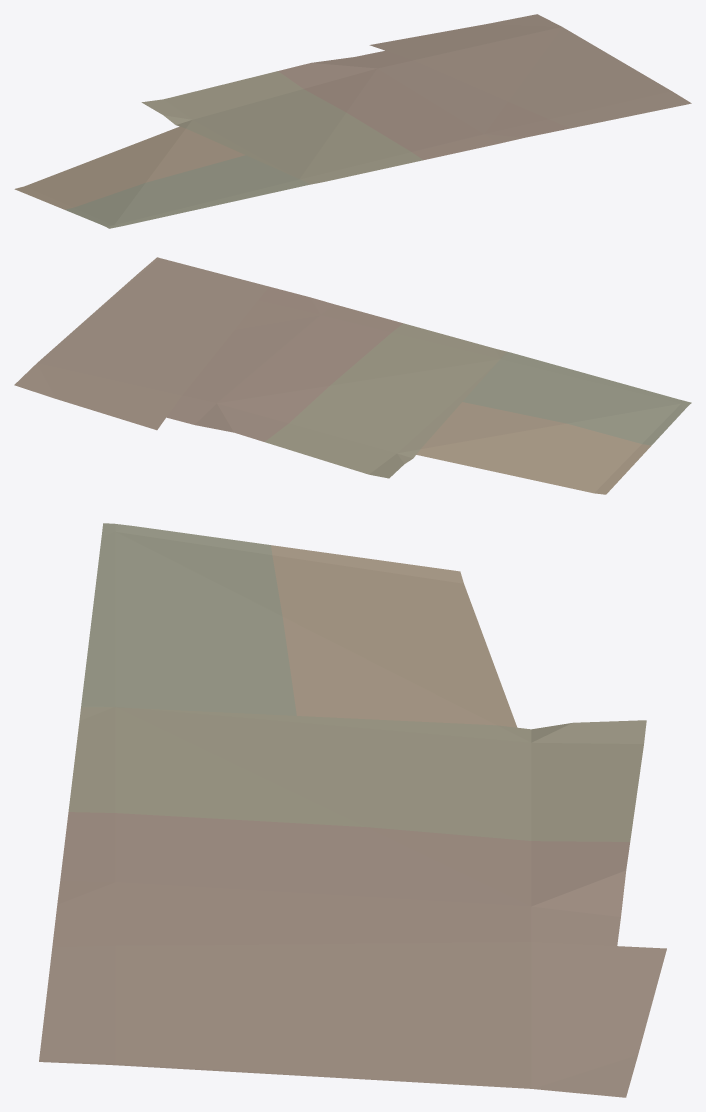
Rendered from farm_6_15_soil.glb.
3 renders of one model, top to bottom at view 1: azimuth 30°, elevation 25°; view 2: azimuth 150°, elevation 25°; view 3: azimuth 270°, elevation 25°, orthographic. The views are drawn at different scales.
Parts seen in each view (by area): view 1: geometry_0; view 2: geometry_0; view 3: geometry_0.
Part boxes in pixels (x1,y1,x2,y2): geometry_0: (14,14,691,228); geometry_0: (14,257,691,494); geometry_0: (39,523,666,1097).
Bounding box in the file's own units: 246 × 11.73 × 121.
